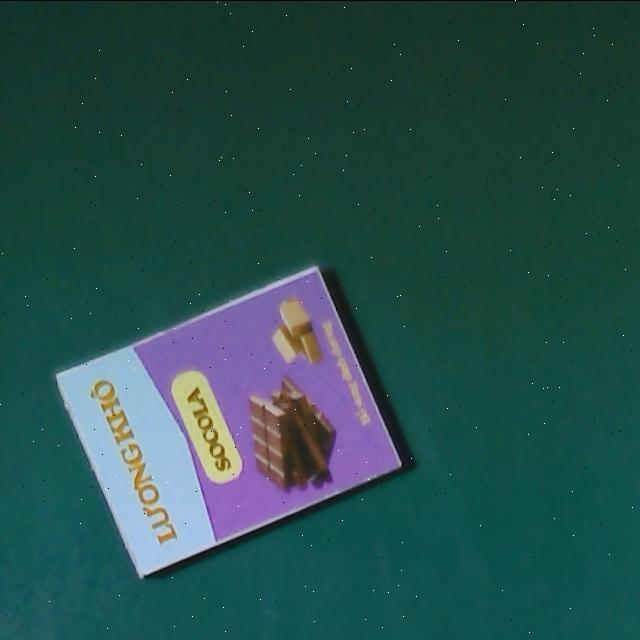socola: (53, 263, 404, 578)
